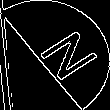N_SW: (18, 24, 92, 86)
